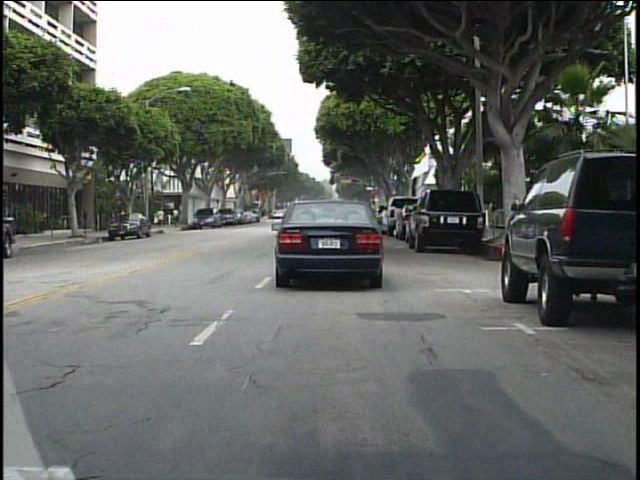person: (153, 204, 168, 232), (172, 203, 184, 230)
